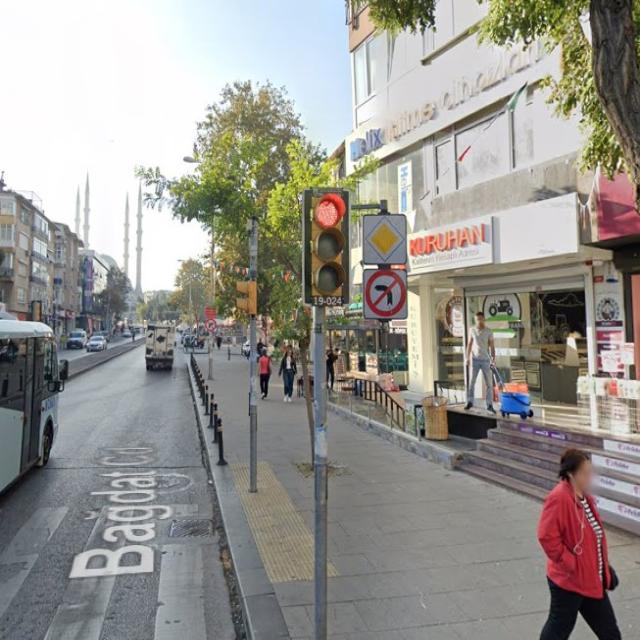kirmizi: (306, 189, 344, 306)
sagadonulmez: (204, 319, 215, 331)
soladonulmez: (366, 270, 404, 316)
